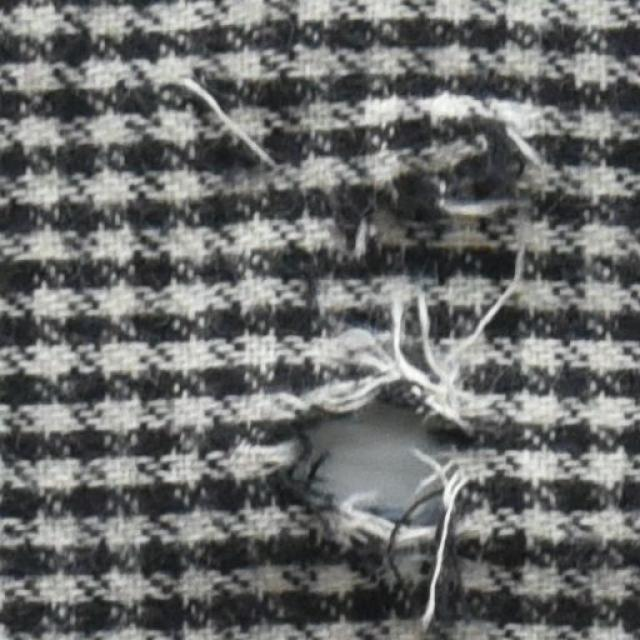Hole: (309, 404, 438, 512)
Snag: (278, 245, 532, 423), (336, 91, 546, 259), (382, 455, 478, 635), (174, 75, 289, 171)
